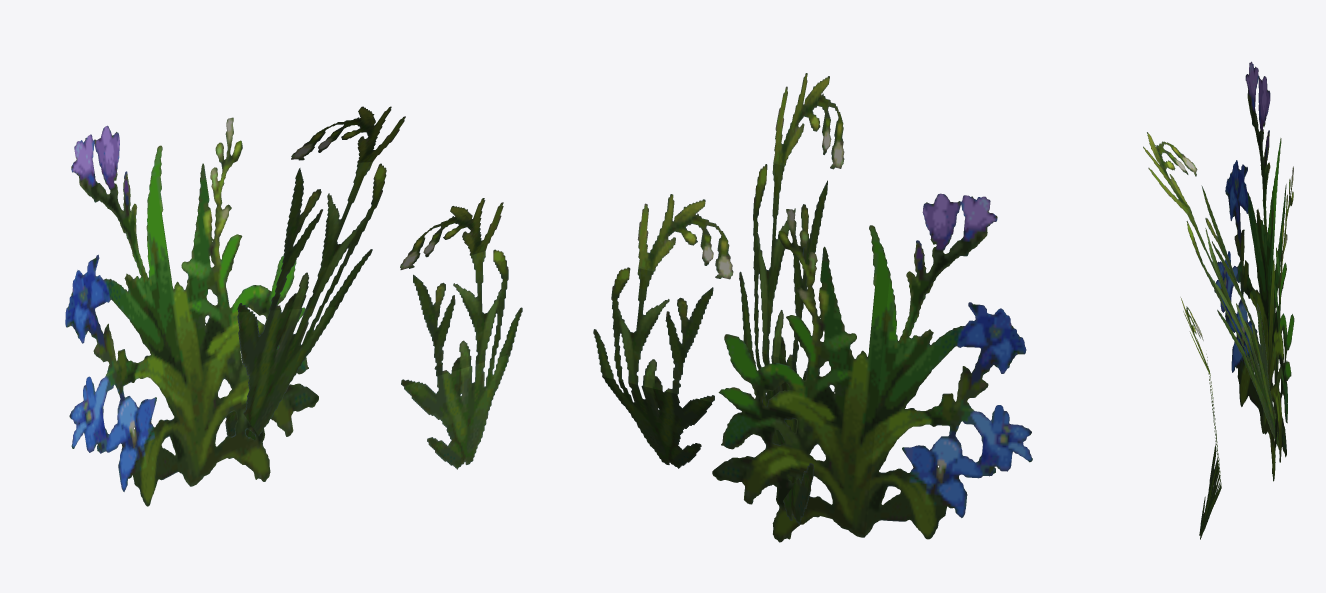
The model's file is yj_huacao_1.FBX.
3 renders of one model, left to right at view 1: azimuth 30°, elevation 25°; view 2: azimuth 150°, elevation 25°; view 3: azimuth 270°, elevation 25°, orthographic. The views are drawn at different scales.
Visible parts, largest first — view 1: yj_huacao_1; view 2: yj_huacao_1; view 3: yj_huacao_1.
Boxes of the visible parts, left/top/right/bottom form: yj_huacao_1: left=65, top=106, right=522, bottom=506; yj_huacao_1: left=593, top=73, right=1032, bottom=542; yj_huacao_1: left=1143, top=61, right=1294, bottom=539.
Size of the model in its own units: 954 by 846 by 386.
